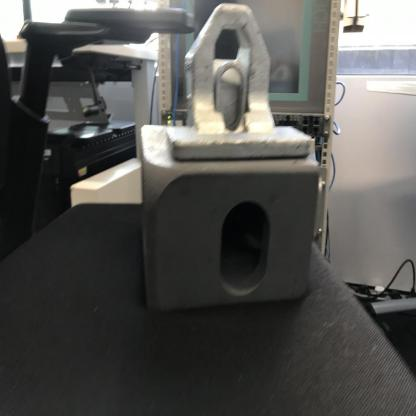CornerCasting: (130, 121, 317, 305)
Twistlock: (164, 0, 314, 166)
